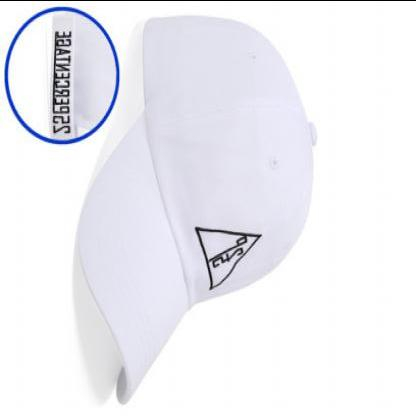cap: (73, 10, 324, 405)
